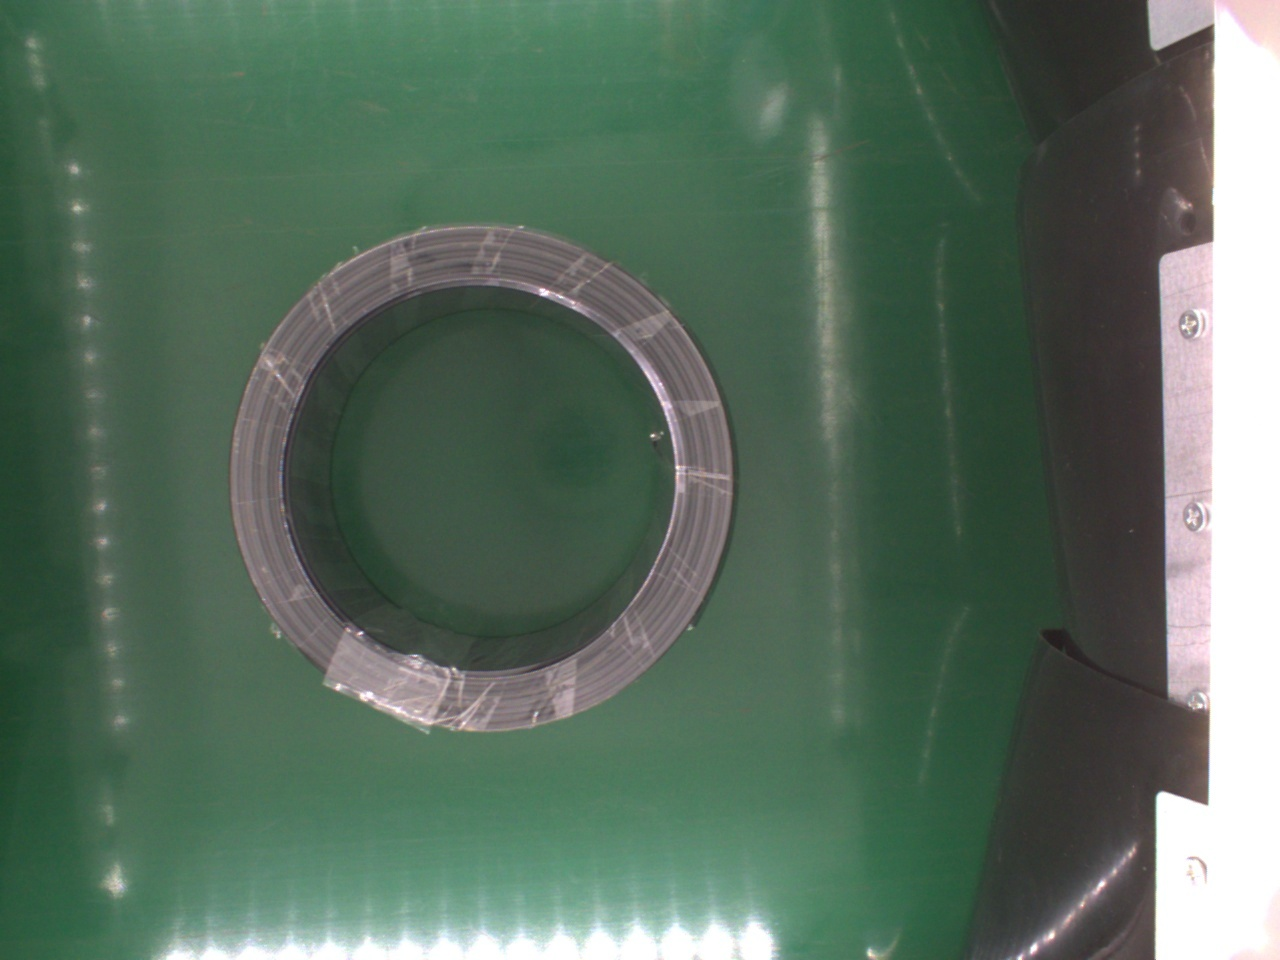black: (226, 225, 734, 734)
